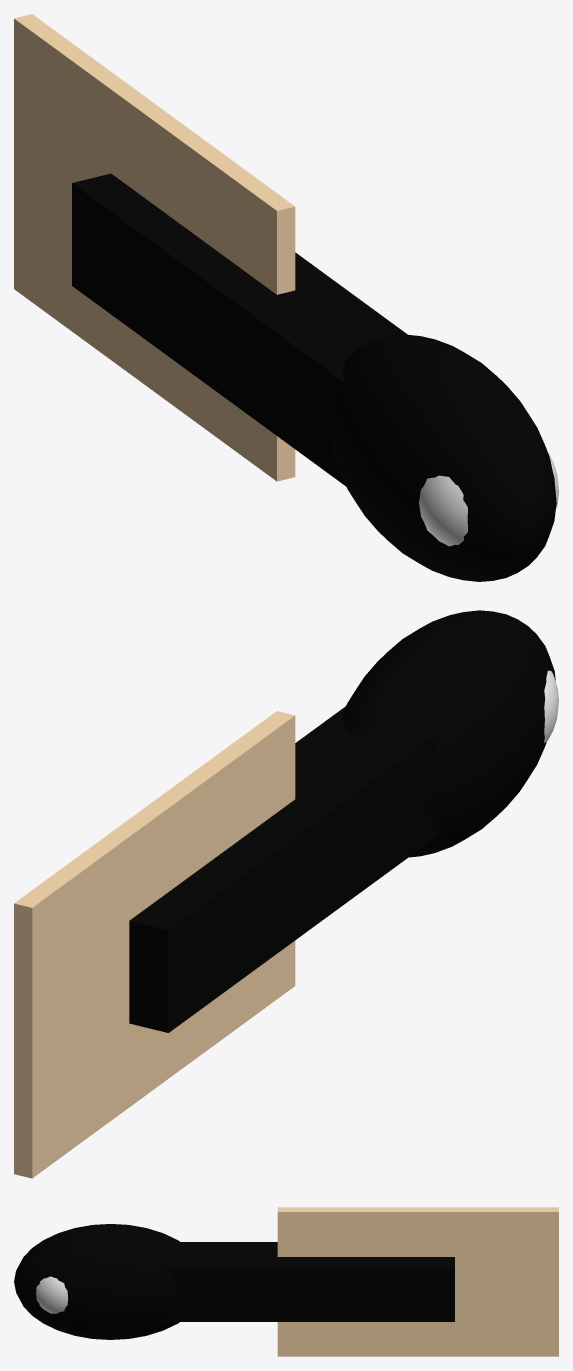
File: Fish_CameraMan.fbx
The picture shows the model from 3 angles, top to bottom: view 1: azimuth 30°, elevation 25°; view 2: azimuth 150°, elevation 25°; view 3: azimuth 270°, elevation 25°; orthographic projection. The views are drawn at different scales.
Parts seen in each view (by area): view 1: Cube__2_, Cube__1_, Sphere, Sphere_1; view 2: Cube__2_, Cube__1_, Sphere, Sphere_1; view 3: Cube__2_, Cube__1_, Sphere, Sphere_1.
Part boxes in pixels (<box>): Cube__2_: <box>14,14,295,481</box>; Cube__1_: <box>72,173,407,485</box>; Sphere: <box>328,334,556,581</box>; Sphere_1: <box>419,452,558,546</box>; Cube__2_: <box>14,711,295,1178</box>; Cube__1_: <box>129,706,442,1032</box>; Sphere: <box>343,610,555,857</box>; Sphere_1: <box>544,670,558,742</box>; Cube__2_: <box>277,1207,558,1356</box>; Cube__1_: <box>162,1242,454,1321</box>; Sphere: <box>14,1224,193,1339</box>; Sphere_1: <box>36,1276,68,1313</box>.
Size of the model in its own units: 37.43 by 68.69 by 234.
